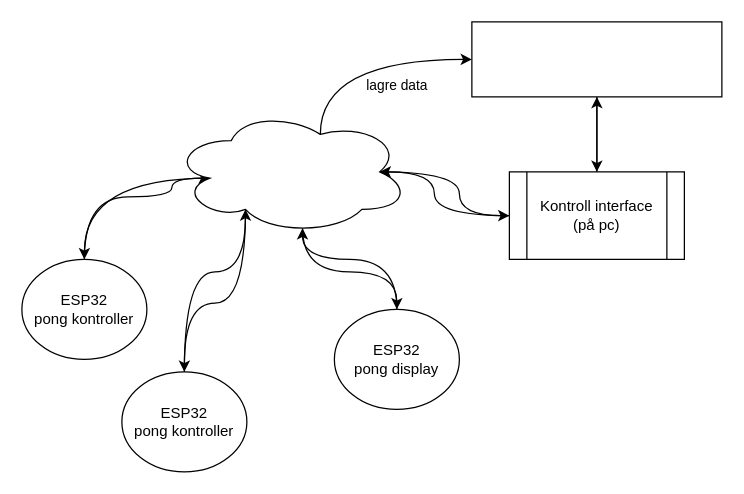
Some shapes in this 744 by 494 pixel diagram are drawn without their labels. Here are the shapes that lost their labels. From the top down, the centre of each, then its label:
At point 596,59: "database verdier blir lagret i".
At point 290,171: "Raspberry Pi server".
